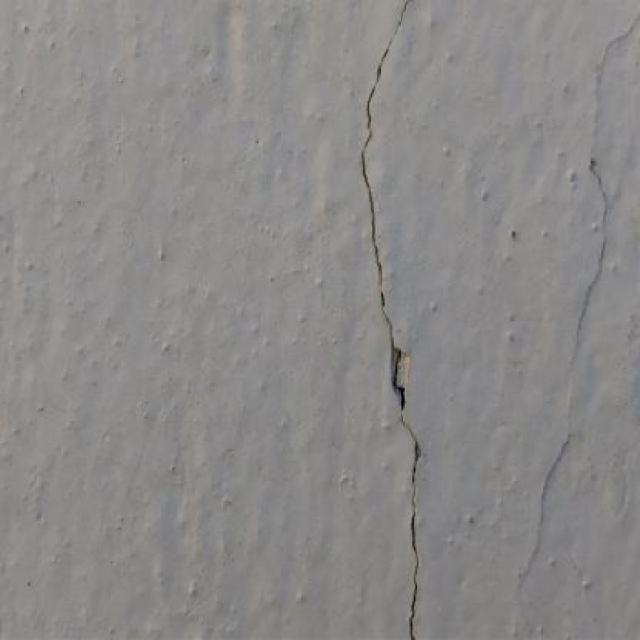GRIETA: (360, 0, 421, 639)
